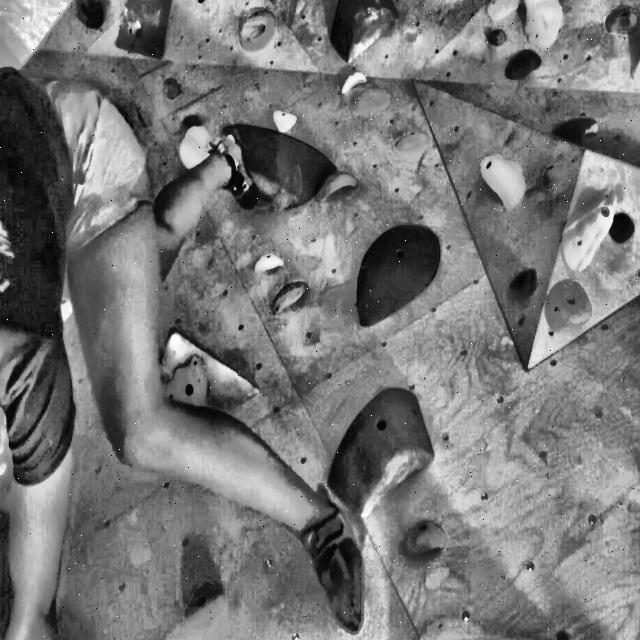Hold: (328, 389, 434, 519), (224, 124, 335, 212), (357, 224, 441, 327), (561, 190, 616, 271), (330, 0, 398, 62), (544, 280, 592, 333), (481, 156, 526, 209), (164, 356, 206, 406), (398, 520, 447, 559), (185, 583, 226, 628), (179, 120, 215, 169), (240, 10, 276, 52), (315, 172, 359, 204), (271, 281, 309, 317), (553, 118, 598, 145), (505, 50, 541, 80), (605, 7, 639, 35), (76, 0, 104, 31), (355, 91, 389, 114), (395, 132, 432, 152), (610, 213, 634, 243), (510, 270, 535, 297), (542, 163, 565, 191), (341, 71, 367, 95), (273, 111, 296, 133), (164, 78, 182, 101), (488, 30, 507, 47), (127, 21, 141, 36), (632, 58, 640, 84)
Volume: (420, 85, 640, 367), (161, 331, 258, 411), (118, 0, 172, 58)
